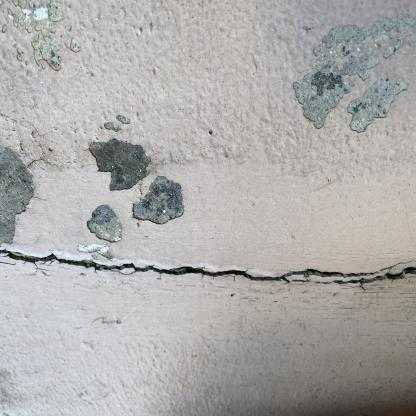crack: (0, 251, 416, 287)
